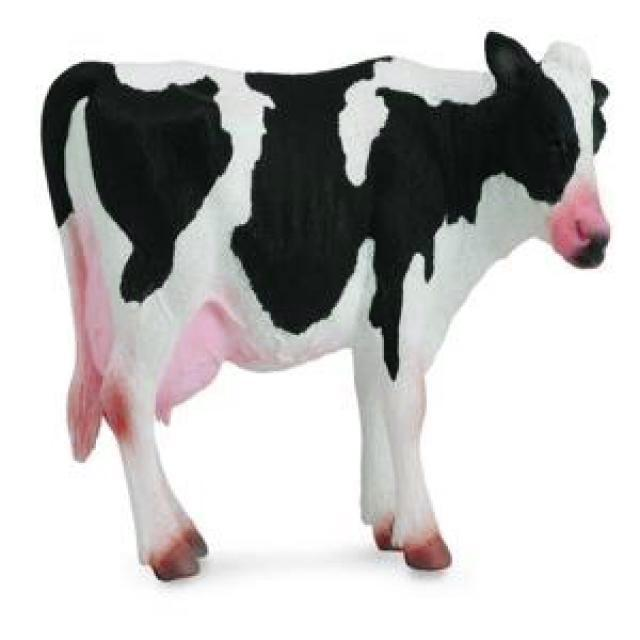cow: (42, 32, 609, 579)
